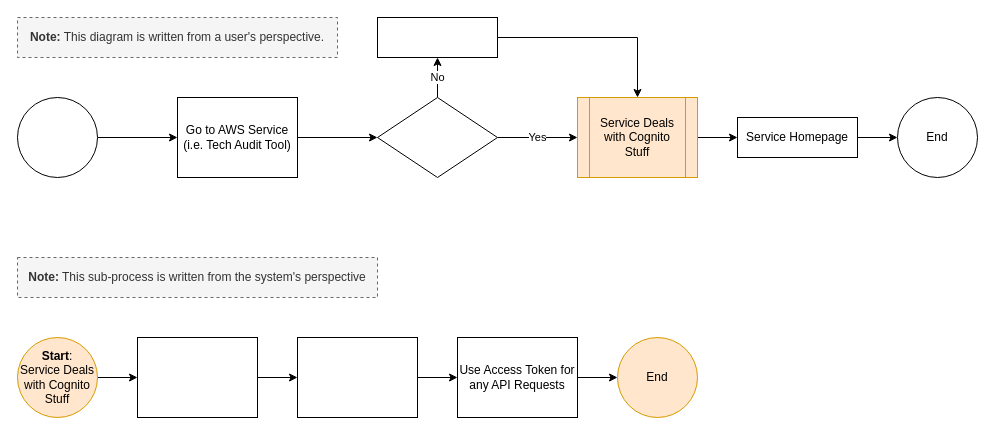
This 995x435 diagram has some shape labels left out. Each missing label, with the centre of its shape:
"Exchange Code for Access Token" belongs at [357,377].
"Get Code from URL after user login" belongs at [197,377].
"Have I signed in?" belongs at [437,137].
"Sign into service with AWS Cognito" belongs at [437,37].
"Start" belongs at [57,137].
